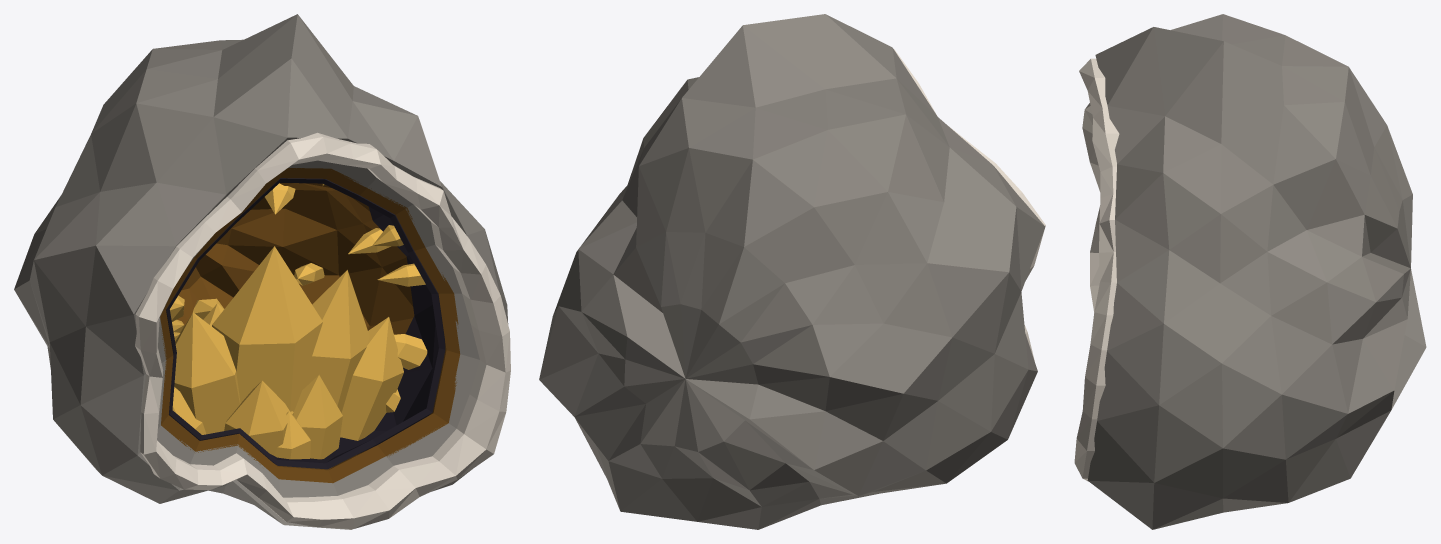
Rendered from Lodge_DisplayGeode_Amber.fbx.
The picture shows the model from 3 angles, left to right: view 1: azimuth 30°, elevation 25°; view 2: azimuth 150°, elevation 25°; view 3: azimuth 270°, elevation 25°; orthographic projection. The views are drawn at different scales.
Visible parts, largest first — view 1: Shell, Rim, Lining, Crystal1, Crystal2, Shade, Crystal3, Druse; view 2: Shell, Rim; view 3: Shell, Rim.
Boxes of the visible parts, box(x1,y1,x2,y2) form: Shell: box(14, 14, 508, 529); Rim: box(135, 132, 510, 528); Lining: box(160, 168, 460, 483); Crystal1: box(172, 246, 342, 459); Crystal2: box(174, 312, 403, 459); Shade: box(166, 178, 445, 469); Crystal3: box(203, 270, 369, 455); Druse: box(170, 183, 427, 412); Shell: box(539, 14, 1045, 529); Rim: box(894, 49, 1045, 360); Shell: box(1087, 14, 1426, 529); Rim: box(1074, 58, 1119, 481).
Size of the model in its own units: 3.23 by 3.29 by 2.41.
